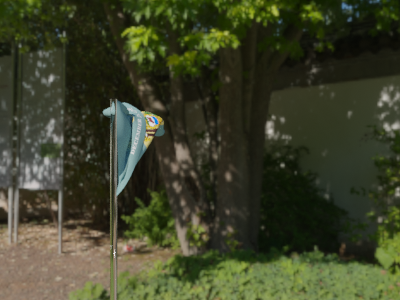Delaware flag: (101, 98, 167, 198)
